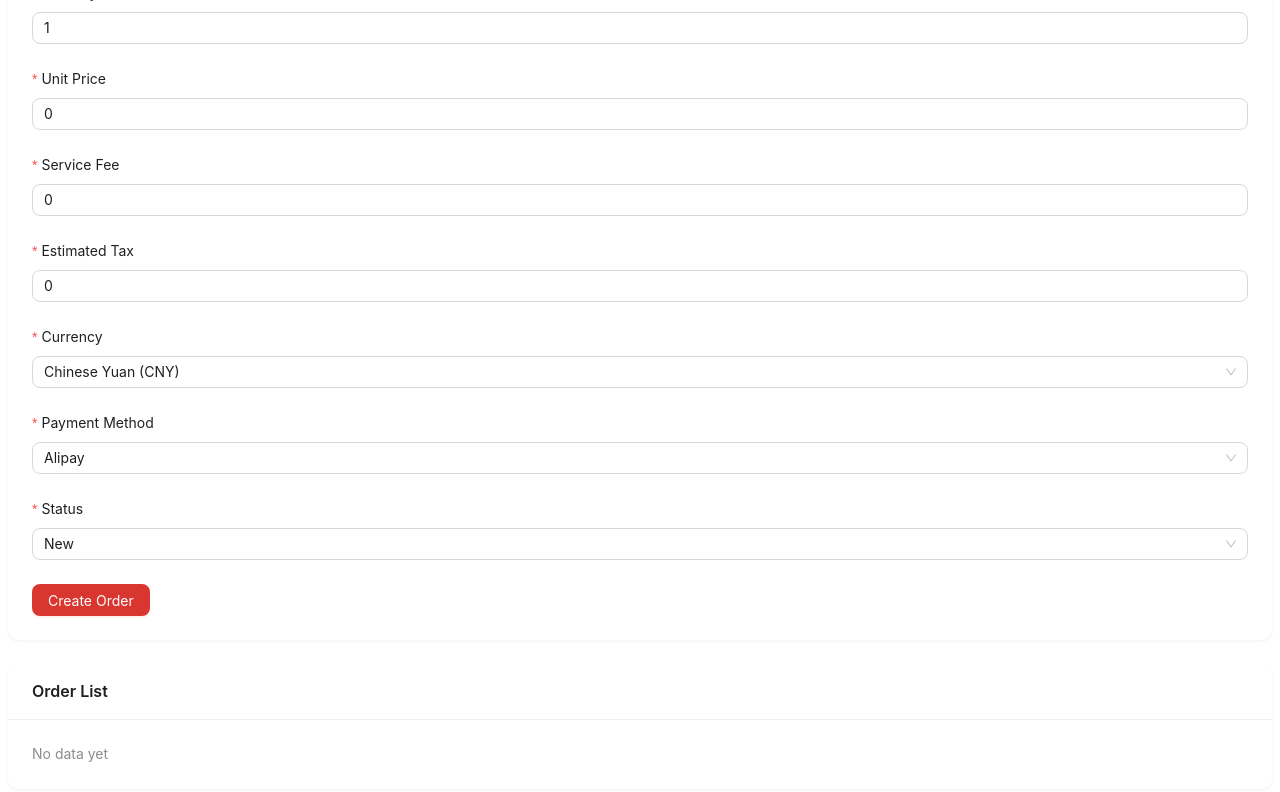
Orders page › validates required fields
This screenshot has width=1280, height=792.
(page scrolled)
Click the button "Create Order". click: (91, 600)
box: [32,584,150,616]
(page scrolled)
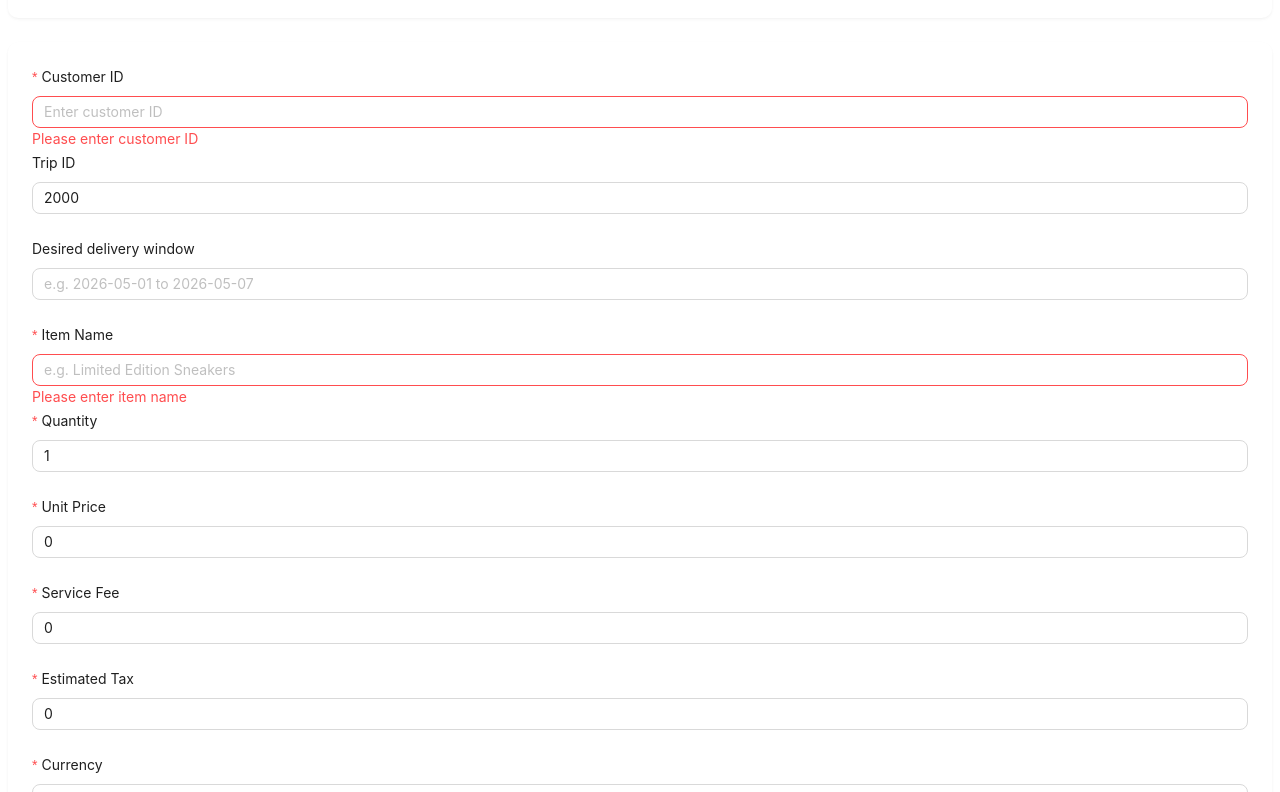
Check: the text "Please enter customer ID" is shown, box [32,130,198,147]
Check: the text "Please enter item name" is shown, box [32,388,187,405]
